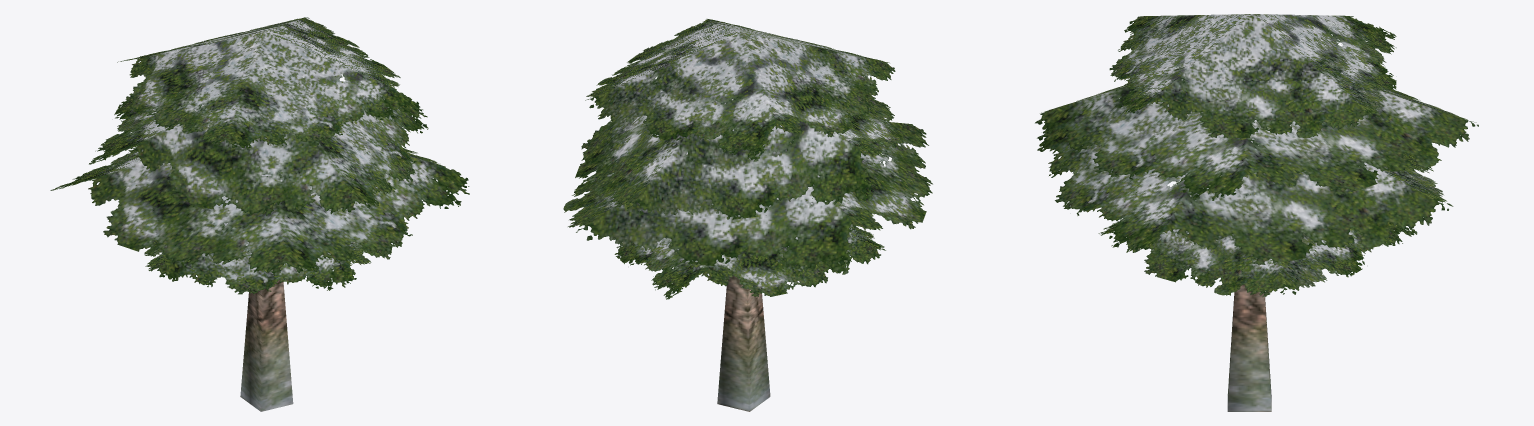
File: tree10.dae
3 renders of one model, left to right at view 1: azimuth 30°, elevation 25°; view 2: azimuth 150°, elevation 25°; view 3: azimuth 270°, elevation 25°, orthographic. The views are drawn at different scales.
Visible parts, largest first — view 1: Untitled; view 2: Untitled; view 3: Untitled.
Part boxes in pixels (x1,y1,x2,y2): Untitled: (50,17,469,411); Untitled: (563,19,932,411); Untitled: (1035,14,1478,411).
Bounding box in the file's own units: 3.58 × 3.89 × 3.14.
1 material, 1 textured.
